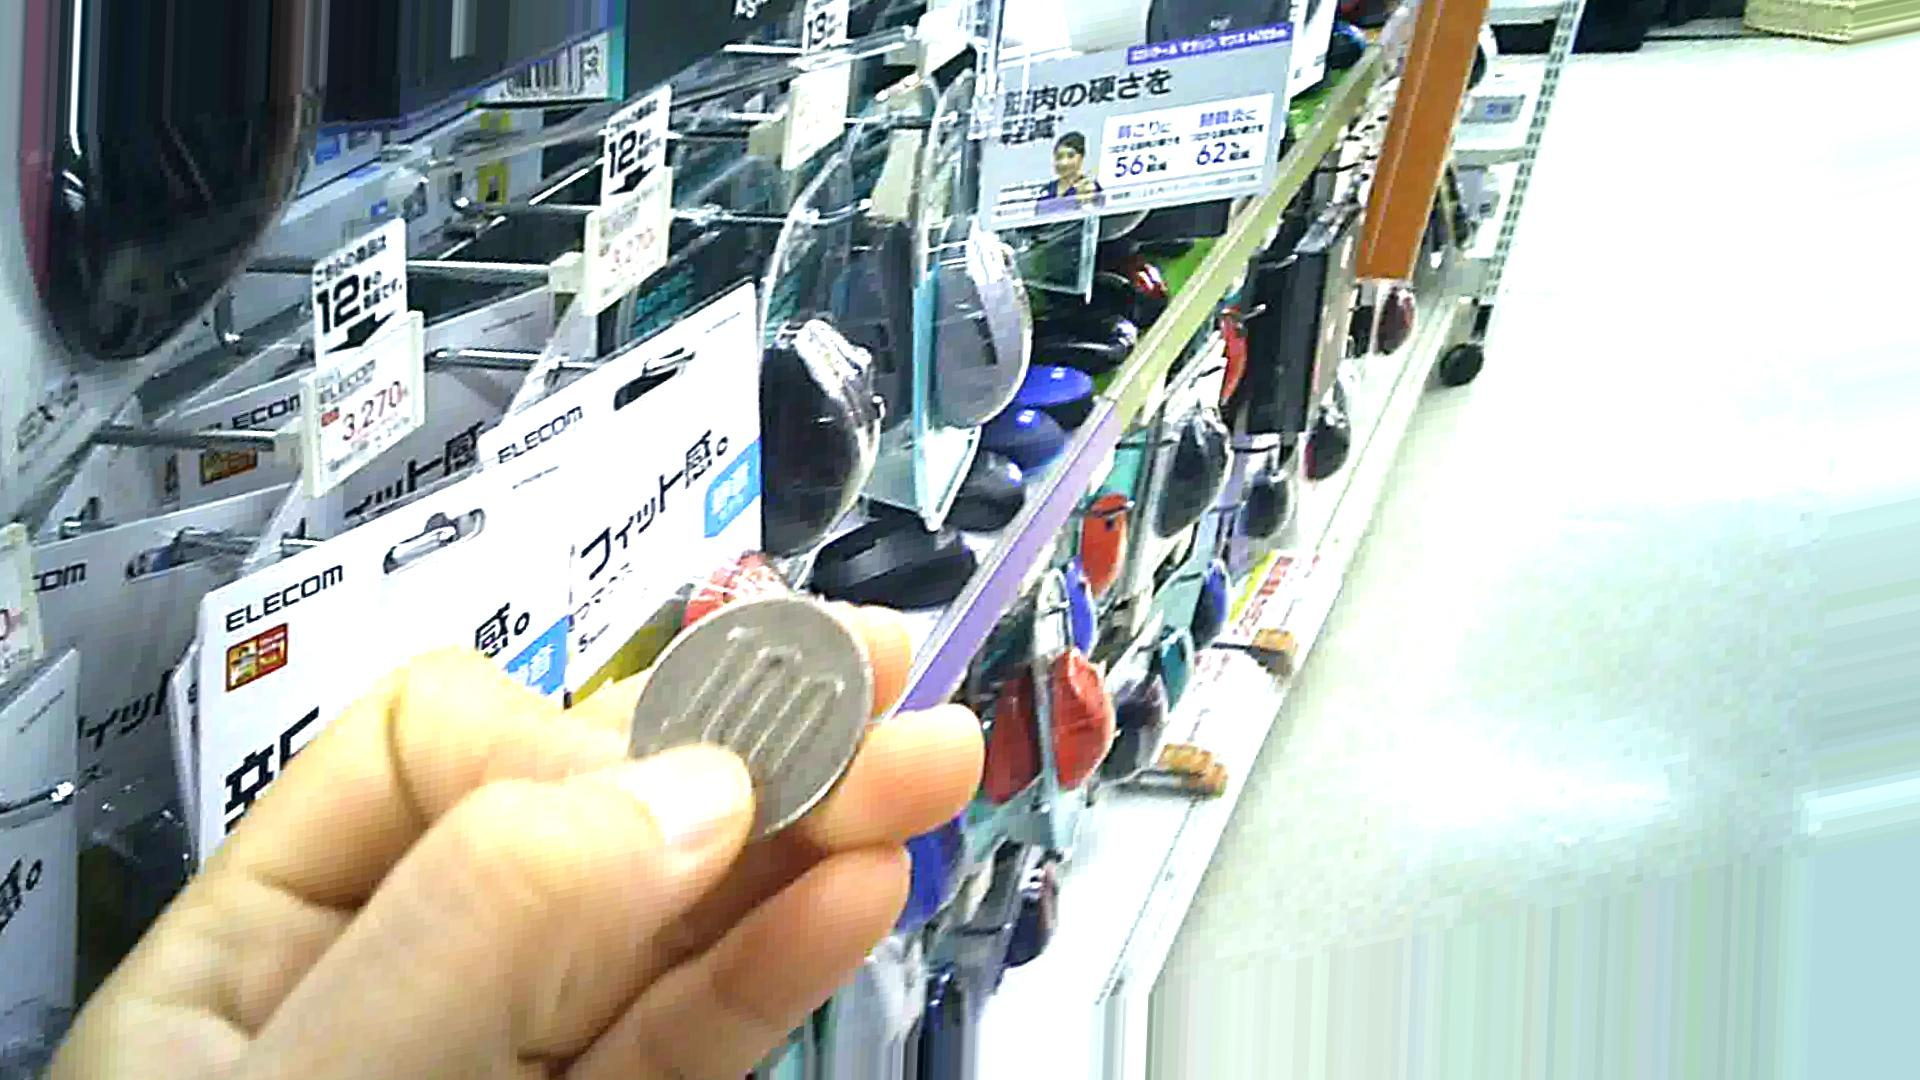100 Yen: (611, 597, 869, 852)
